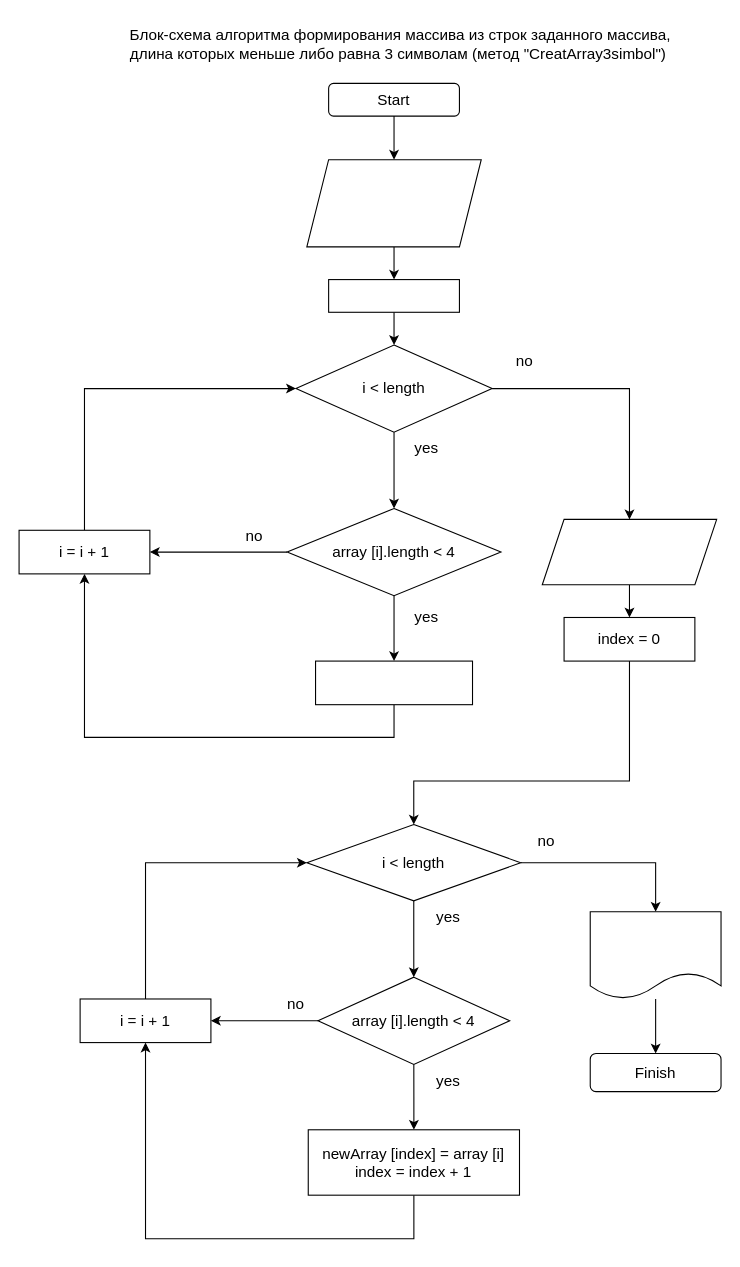
The diagram is 740 pixels wide and 1267 high, and some of its shapes have lost their labels. Here are the shapes that lost their labels. From the top down, the centre of each, then its label:
the point at 393,203: length array [length]
the point at 393,295: size = 0
the point at 629,551: size newArray [size]
the point at 393,682: size = size + 1
the point at 655,955: newArray []
